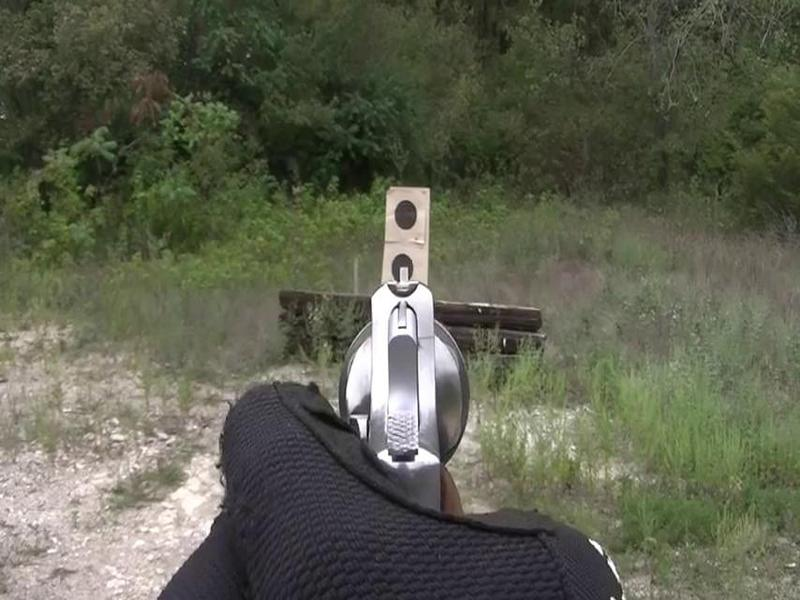Revolver: (306, 251, 484, 528)
